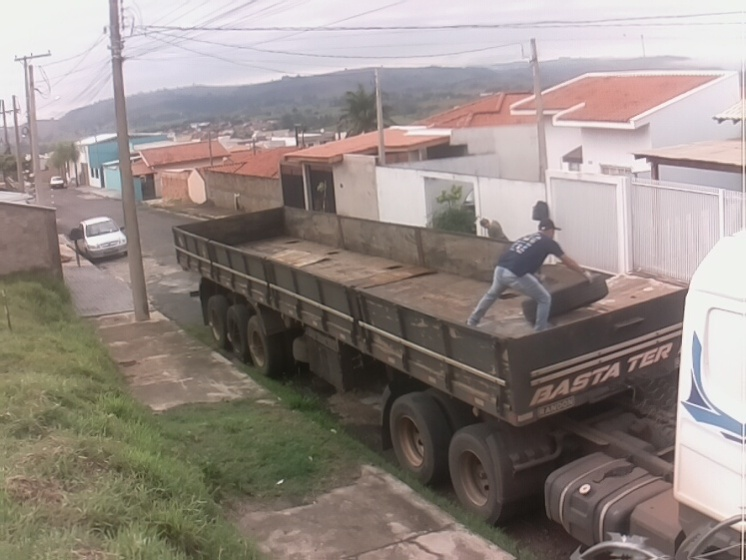person: (465, 218, 593, 332), (479, 218, 510, 244)
